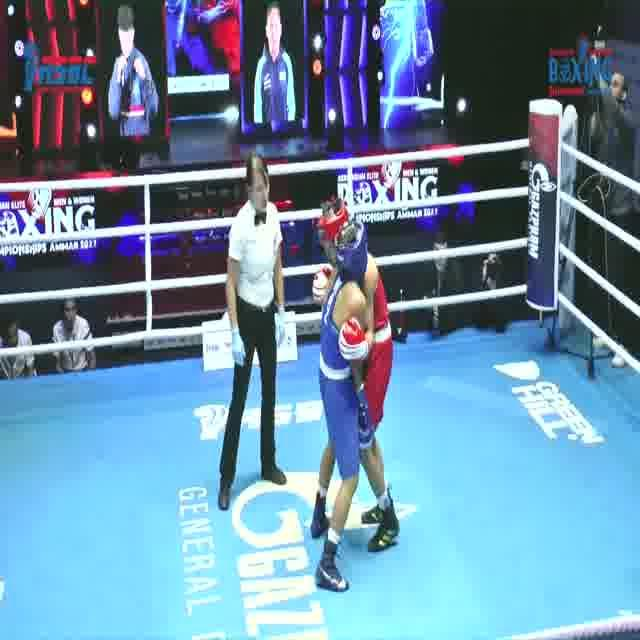blue-player: (307, 218, 373, 602)
red-player: (309, 192, 402, 556)
referee: (214, 150, 288, 512)
